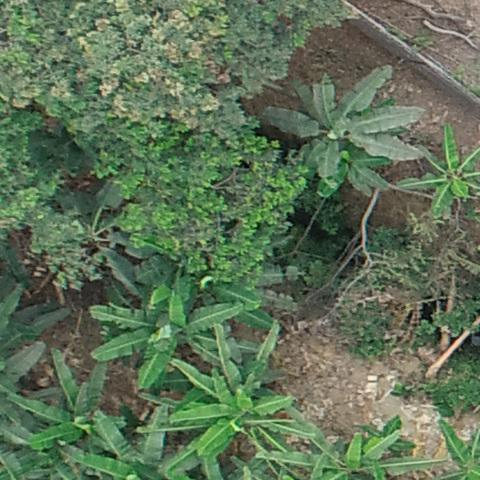Banana-plant: (257, 59, 429, 203), (167, 321, 325, 467), (88, 273, 272, 393), (4, 347, 129, 466), (252, 407, 453, 480), (61, 407, 221, 480), (393, 121, 479, 225)
